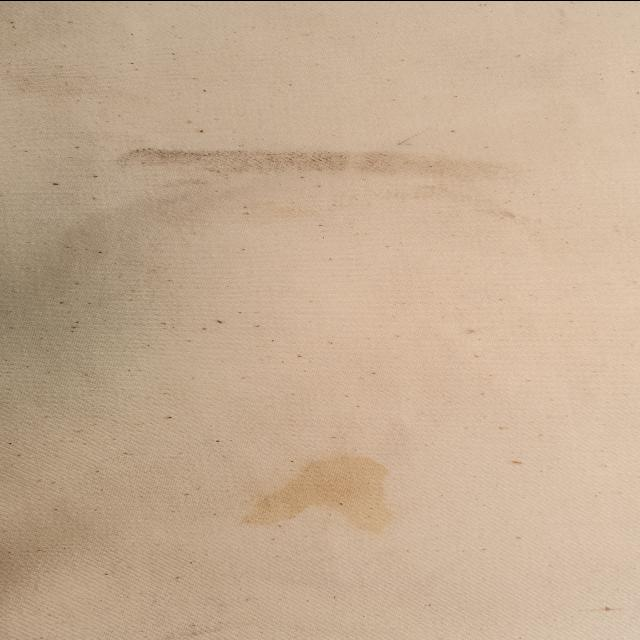taaaches: (95, 123, 548, 208), (227, 438, 418, 545)
